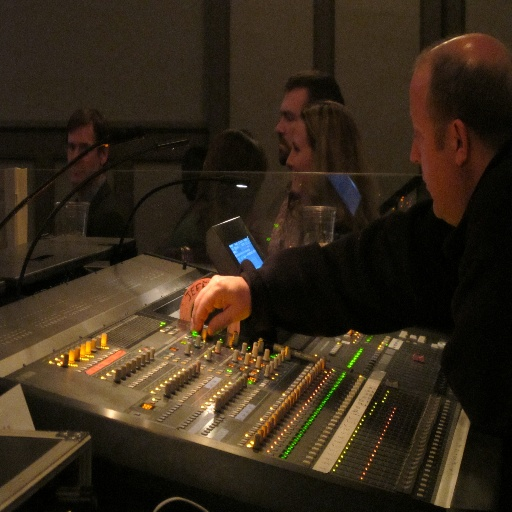hand: (177, 272, 257, 342)
